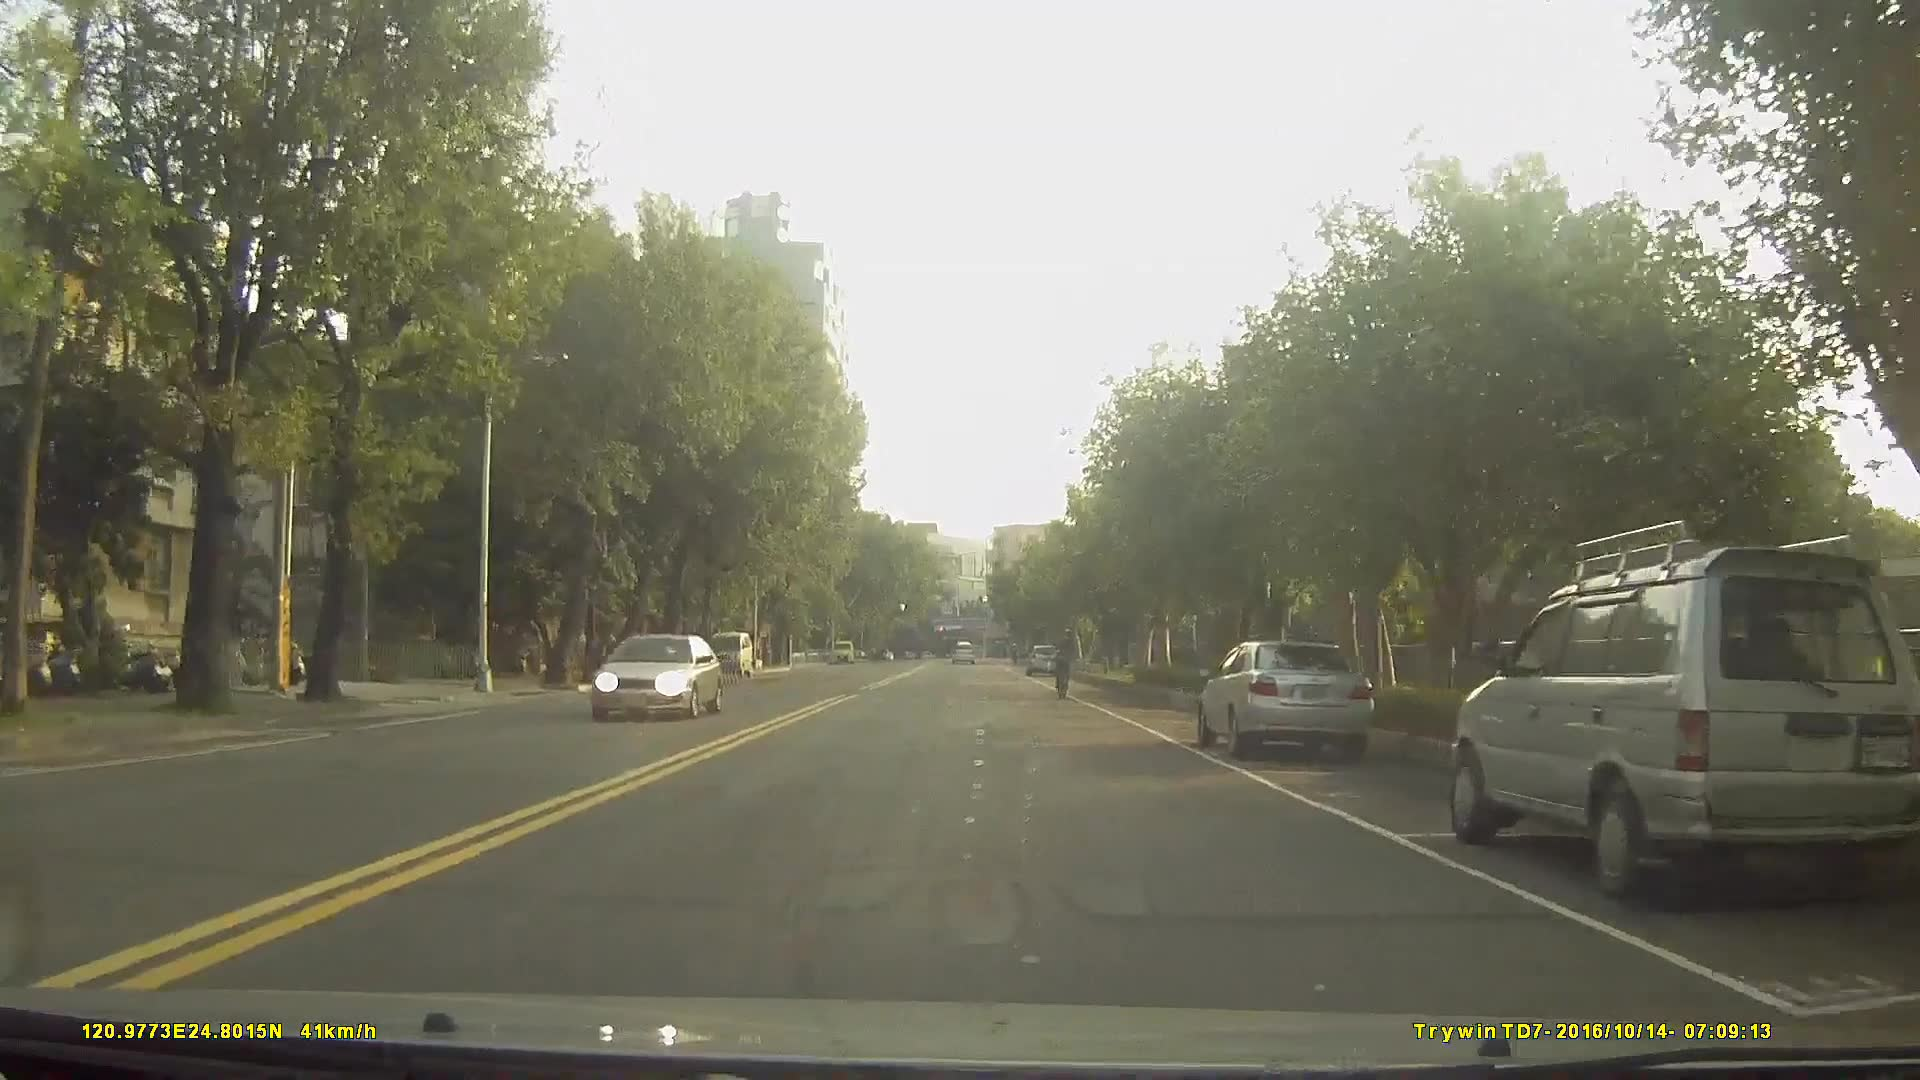rider: (1054, 620, 1080, 703)
vehicle: (1447, 543, 1920, 896), (1196, 636, 1375, 755), (588, 632, 724, 722), (619, 637, 683, 687), (703, 626, 753, 676), (1023, 639, 1060, 676), (948, 637, 976, 666)
